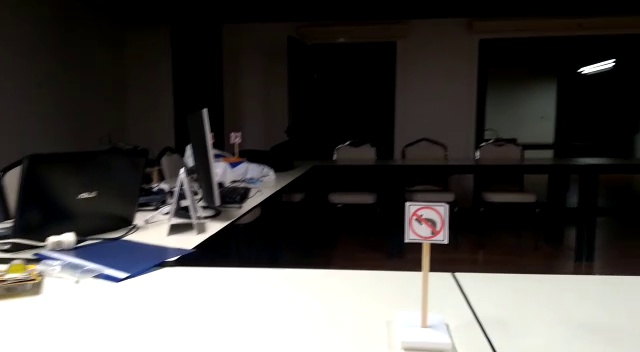sola_donulmez: (406, 204, 450, 241)
